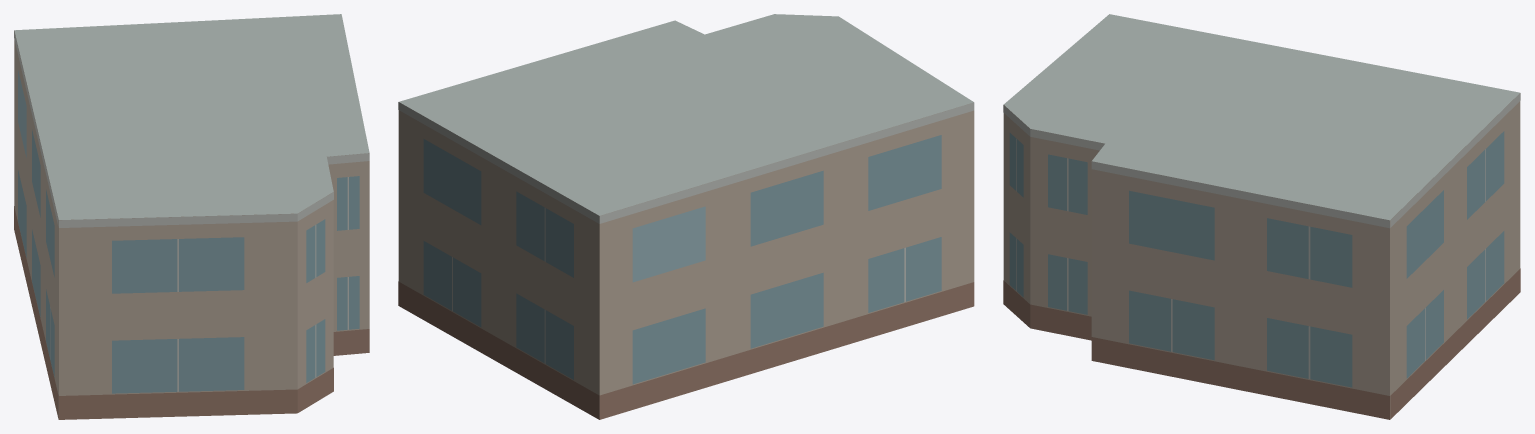
Rendered from survey-upis-32655584.glb.
3 views of the same model, side by side, from view 1: azimuth 30°, elevation 25°; view 2: azimuth 150°, elevation 25°; view 3: azimuth 270°, elevation 25° (orthographic). The views are drawn at different scales.
Parts seen in each view (by area): view 1: survey-upis-32655584.tmp; view 2: survey-upis-32655584.tmp; view 3: survey-upis-32655584.tmp.
Part boxes in pixels (<box>): survey-upis-32655584.tmp: <box>14,14,369,419</box>; survey-upis-32655584.tmp: <box>398,14,974,419</box>; survey-upis-32655584.tmp: <box>1003,14,1520,419</box>.
Bounding box in the file's own units: 13.54 × 6.1 × 14.33.
